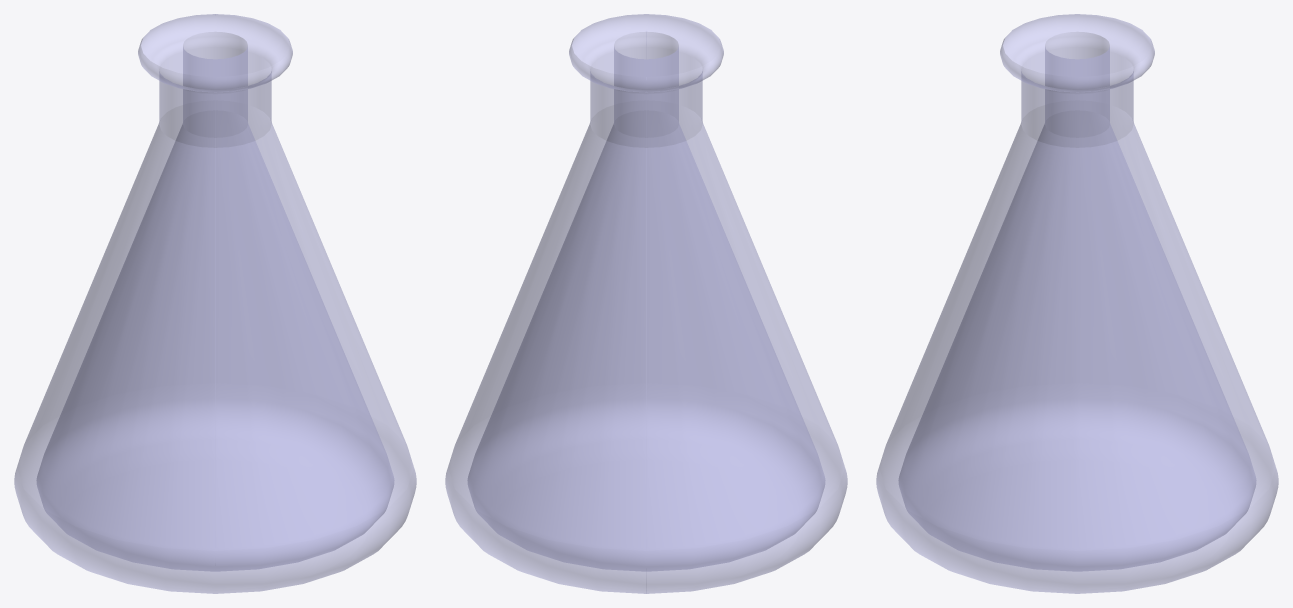
The model's file is matraz.fbx.
3 views of the same model, side by side, from view 1: azimuth 30°, elevation 25°; view 2: azimuth 150°, elevation 25°; view 3: azimuth 270°, elevation 25° (orthographic).
Parts seen in each view (by area): view 1: Erlenmeyer_flask; view 2: Erlenmeyer_flask; view 3: Erlenmeyer_flask.
Part boxes in pixels (x1=…): Erlenmeyer_flask: x1=14, y1=14, x2=416, y2=593; Erlenmeyer_flask: x1=445, y1=14, x2=847, y2=593; Erlenmeyer_flask: x1=876, y1=14, x2=1278, y2=593.
Bounding box in the file's own units: 15.51 × 20.37 × 15.51.
